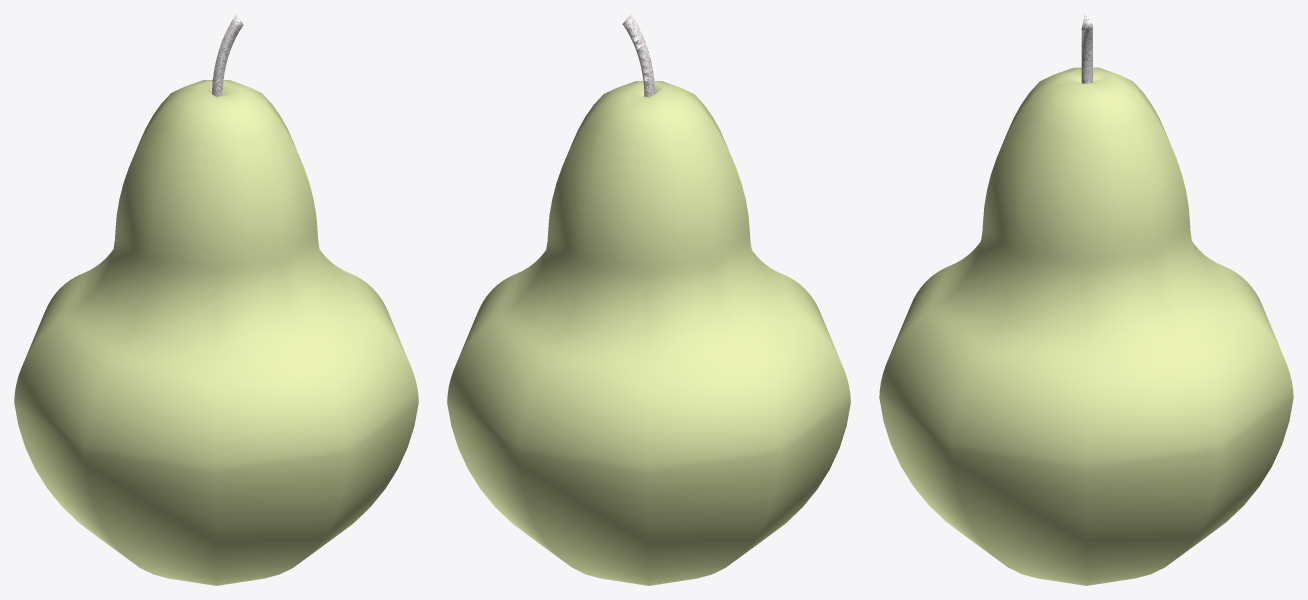
Rendered from pear(3).dae.
3 views of the same model, side by side, from view 1: azimuth 30°, elevation 25°; view 2: azimuth 150°, elevation 25°; view 3: azimuth 270°, elevation 25° (orthographic). The views are drawn at different scales.
Visible parts, largest first — view 1: SketchUp_001; view 2: SketchUp_001; view 3: SketchUp_001.
Boxes of the visible parts, bbox=[...] form: SketchUp_001: bbox=[14, 14, 418, 585]; SketchUp_001: bbox=[447, 14, 850, 585]; SketchUp_001: bbox=[879, 14, 1293, 585].
Size of the model in its own units: 0.0985 by 0.1001 by 0.1487.
